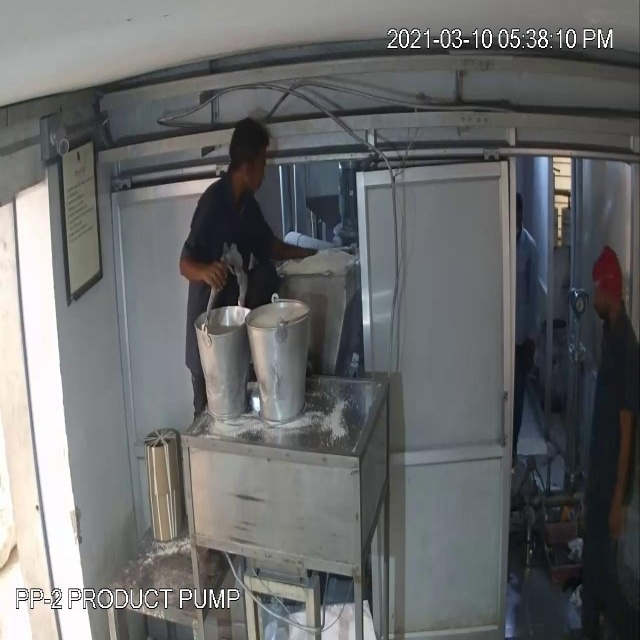Sin_guantes: (171, 244, 230, 304)
